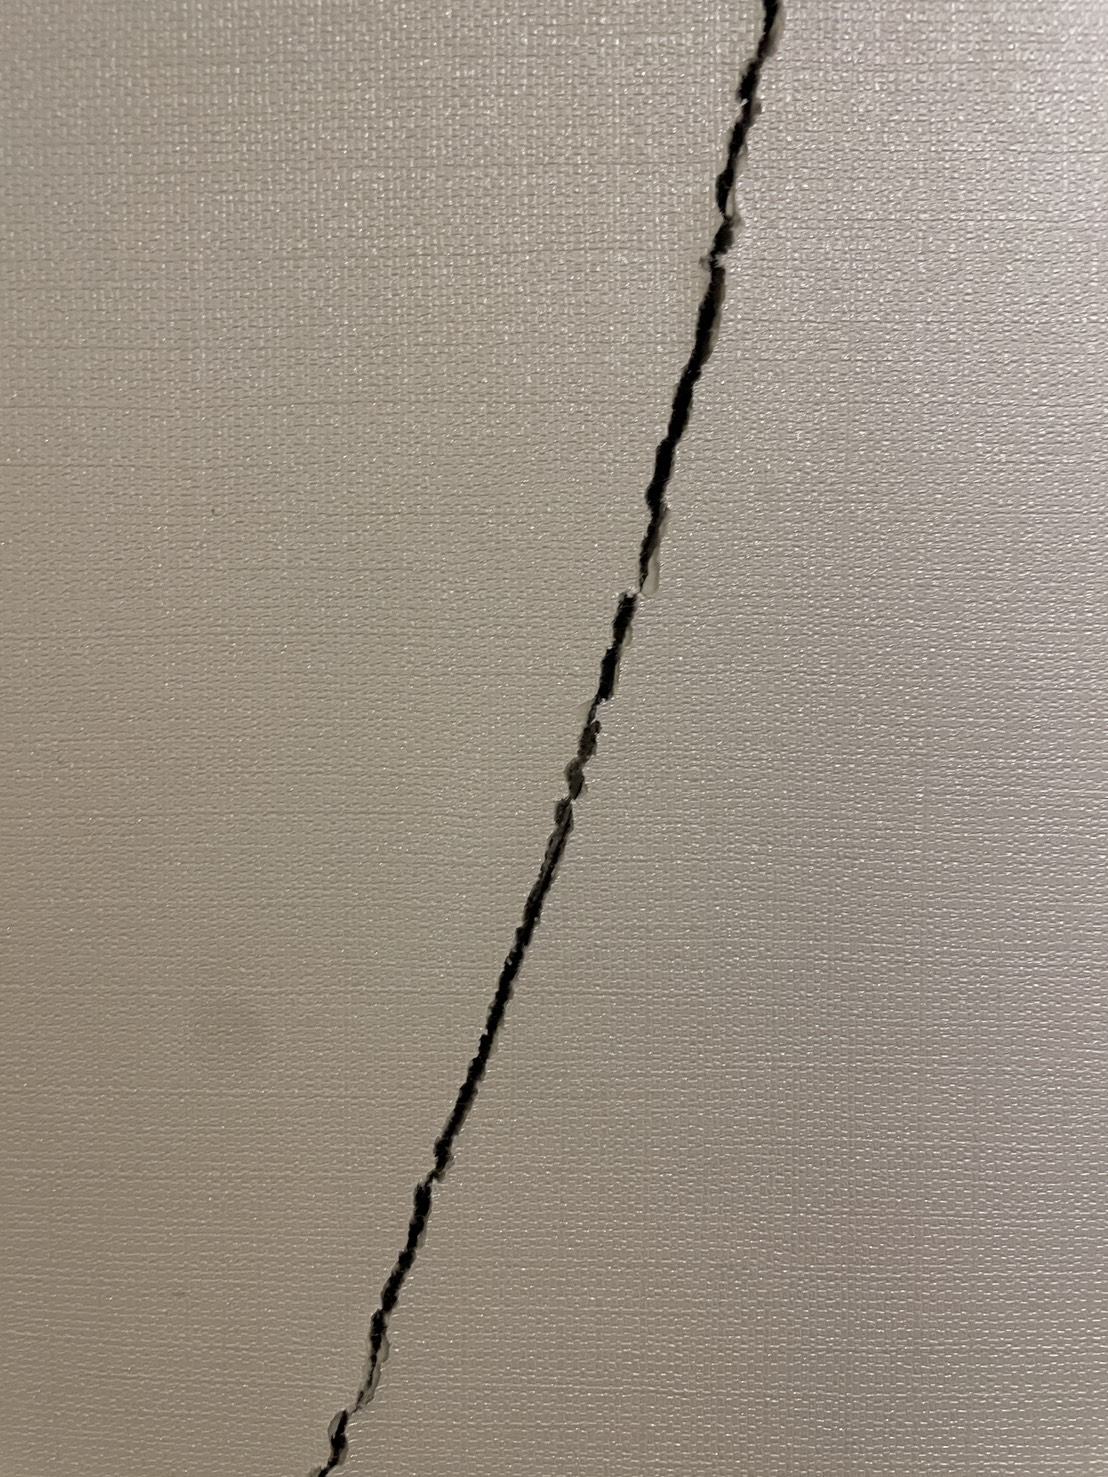Medium: (342, 133, 804, 1304)
